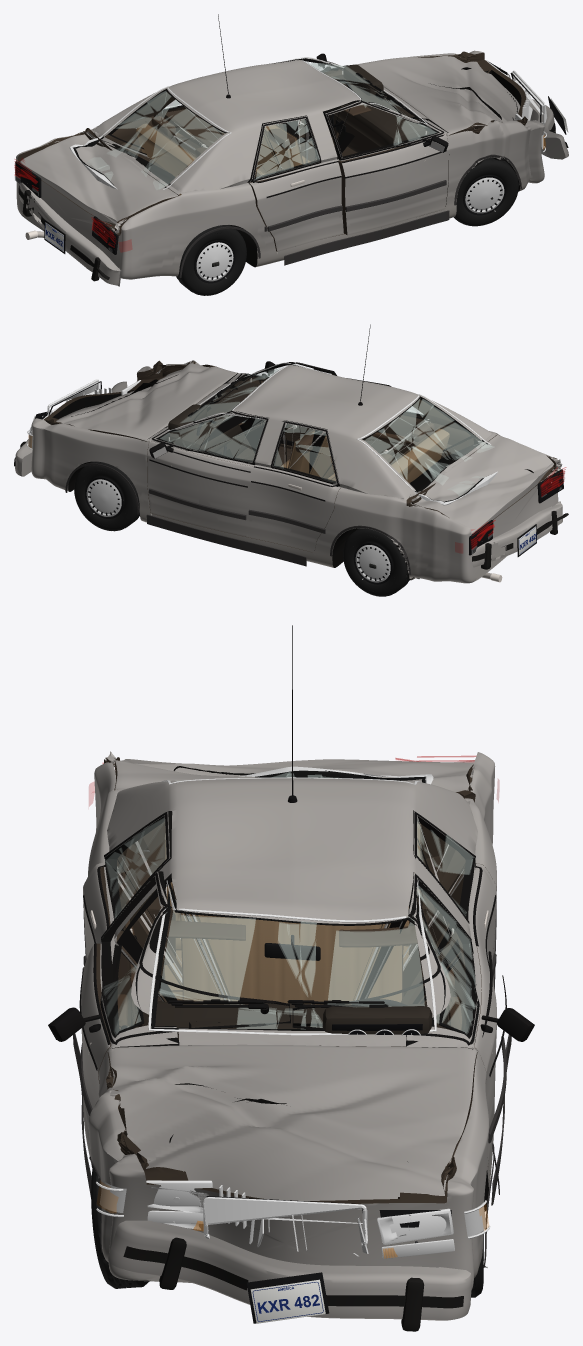
File: sedan87_front_corner_R_d1.glb
The picture shows the model from 3 angles, top to bottom: view 1: azimuth 30°, elevation 25°; view 2: azimuth 150°, elevation 25°; view 3: azimuth 270°, elevation 25°; orthographic projection. The views are drawn at different scales.
Parts seen in each view (by area): view 1: Body, Door_FR, Interior, Hood, Glass, Trunk, Door_RR, Wheel_RR_mesh, Wheel_FR_mesh, Trim, Ends, Bumper_R (+7 smaller); view 2: Body, Door_FL, Glass, Trunk, Interior, Hood, Door_RL, Wheel_FL_mesh, Wheel_RL_mesh, Trim, Glass_FL, Ends (+10 smaller); view 3: Body, Hood, Interior, Glass, Bumper_F, Ends, Door_FR, Door_FL, Trunk, Trim_FR, Trim_FL, Door_RR (+9 smaller).
Boxes of the visible parts, x1,y1,x2,y2 form: Body: (16,50,544,279); Door_FR: (324,101,449,235); Interior: (136,64,429,195); Hood: (356,56,520,135); Glass: (69,57,427,189); Trunk: (20,132,178,226); Door_RR: (248,115,343,251); Wheel_RR_mesh: (176,225,246,295); Wheel_FR_mesh: (453,157,518,226); Trim: (179,14,521,277); Ends: (15,60,568,254); Bumper_R: (18,182,121,286); Body: (31,360,562,583); Door_FL: (147,411,268,536); Glass: (167,362,497,505); Trunk: (411,435,556,534); Interior: (166,380,449,483); Hood: (56,363,239,441); Door_RL: (248,420,341,552); Wheel_FL_mesh: (74,461,139,531); Wheel_RL_mesh: (343,528,409,596); Trim: (65,324,410,575); Glass_FL: (156,411,268,461); Ends: (26,379,563,556); Body: (88,751,496,1290); Hood: (108,1044,477,1200); Interior: (137,822,447,1041); Glass: (148,766,436,1035); Bumper_F: (108,1220,472,1331); Ends: (96,1180,490,1323); Door_FR: (81,871,178,1168); Door_FL: (406,873,496,1179); Trunk: (115,757,473,791); Trim_FR: (48,872,290,1115); Trim_FL: (292,874,534,1143); Door_RR: (83,811,172,1029).
Size of the model in its own units: 4.86 by 2.14 by 2.09.
Materials: 33 (5 with a texture image).
